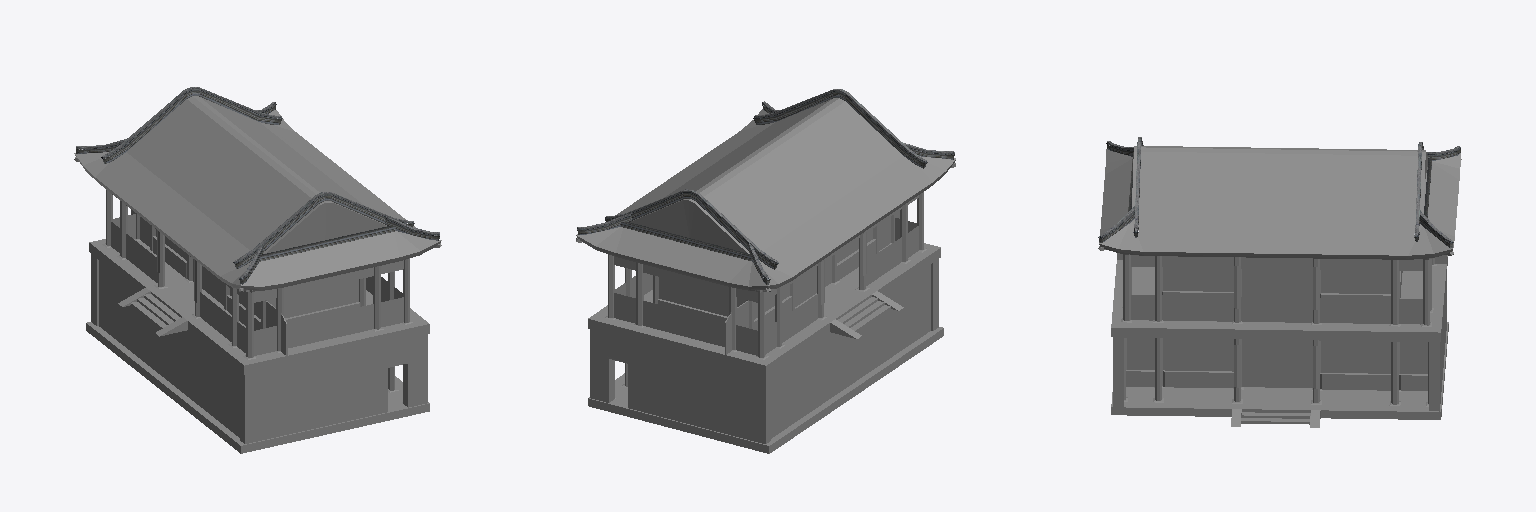
3 renders of one model, left to right at view 1: azimuth 30°, elevation 25°; view 2: azimuth 150°, elevation 25°; view 3: azimuth 270°, elevation 25°, orthographic.
Parts seen in each view (by area): view 1: polySurface90; view 2: polySurface90; view 3: polySurface90.
Boxes of the visible parts, <box> form: polySurface90: <box>74,87,441,453</box>; polySurface90: <box>576,89,955,453</box>; polySurface90: <box>1098,137,1461,427</box>.
Size of the model in its own units: 10.99 by 10.42 by 14.87.
17 materials, 1 textured.